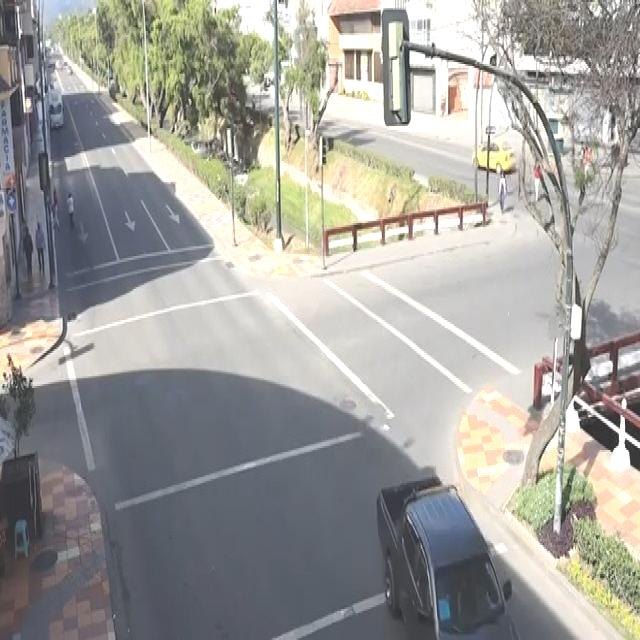CMT: (378, 483, 524, 640)
